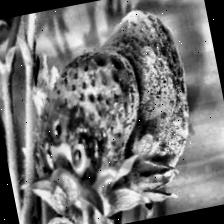Gray Mold: (82, 4, 208, 203), (16, 43, 158, 205)
